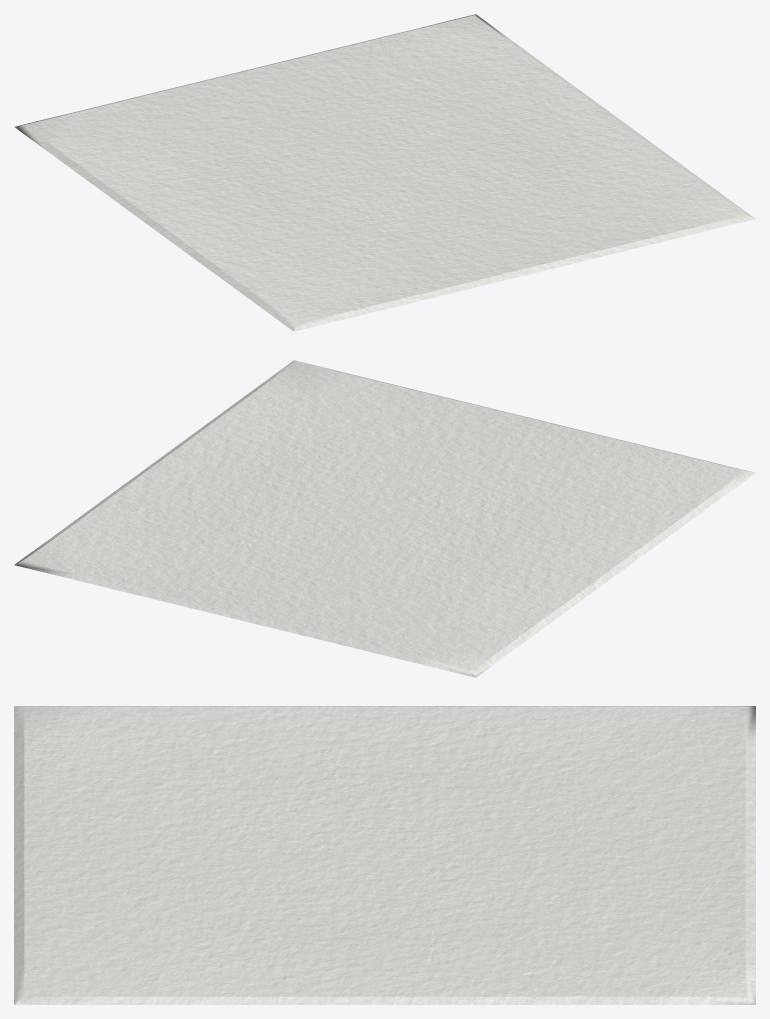
The model's file is twosides.fbx.
3 renders of one model, top to bottom at view 1: azimuth 30°, elevation 25°; view 2: azimuth 150°, elevation 25°; view 3: azimuth 270°, elevation 25°, orthographic. The views are drawn at different scales.
Parts seen in each view (by area): view 1: twosides1; view 2: twosides1; view 3: twosides1.
Boxes of the visible parts, x1=… form: twosides1: x1=14, y1=14, x2=755, y2=331; twosides1: x1=14, y1=360, x2=755, y2=677; twosides1: x1=14, y1=706, x2=755, y2=1004.
Bounding box in the file's own units: 94.11 × 1.16 × 98.79.
